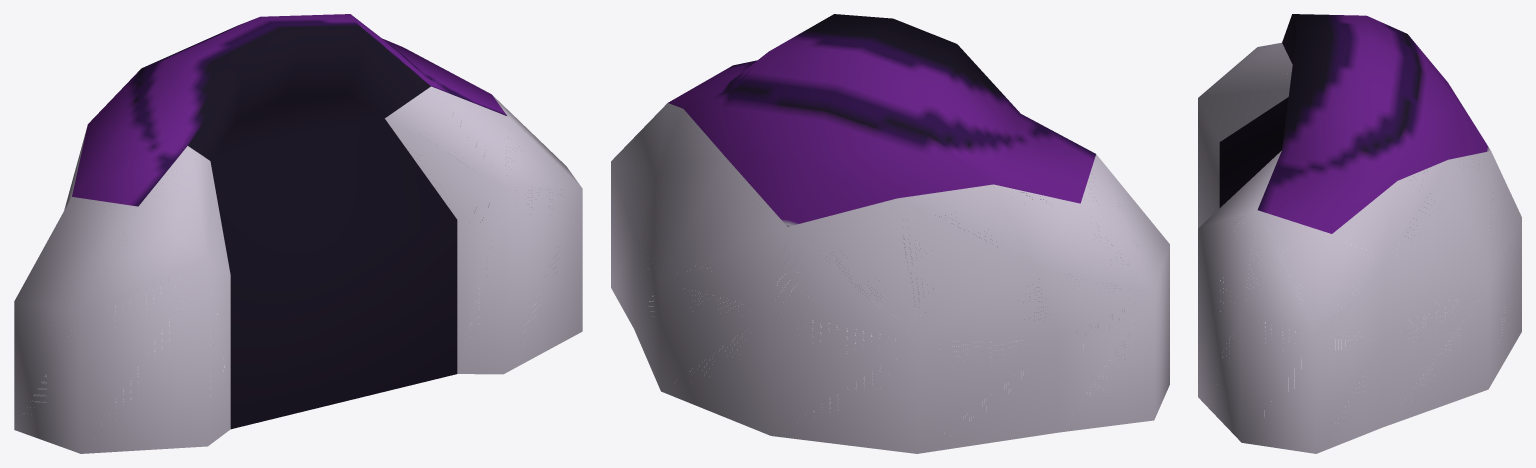
File: intro_body.obj
The picture shows the model from 3 angles, left to right: view 1: azimuth 30°, elevation 25°; view 2: azimuth 150°, elevation 25°; view 3: azimuth 270°, elevation 25°; orthographic projection. The views are drawn at different scales.
Visible parts, largest first — view 1: Body; view 2: Body; view 3: Body.
Boxes of the visible parts, left/top/right/bottom form: Body: left=14, top=14, right=582, bottom=453; Body: left=611, top=14, right=1169, bottom=453; Body: left=1198, top=14, right=1521, bottom=453.
Bounding box in the file's own units: 4.54 × 2.62 × 2.54.
Materials: 1 (1 with a texture image).
